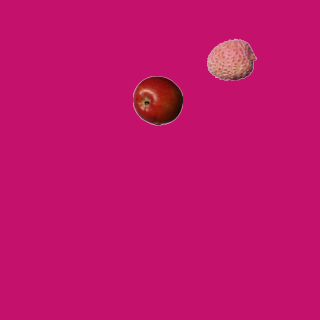Apple Braeburn: (132, 75, 182, 125)
Lychee: (206, 34, 256, 84)
